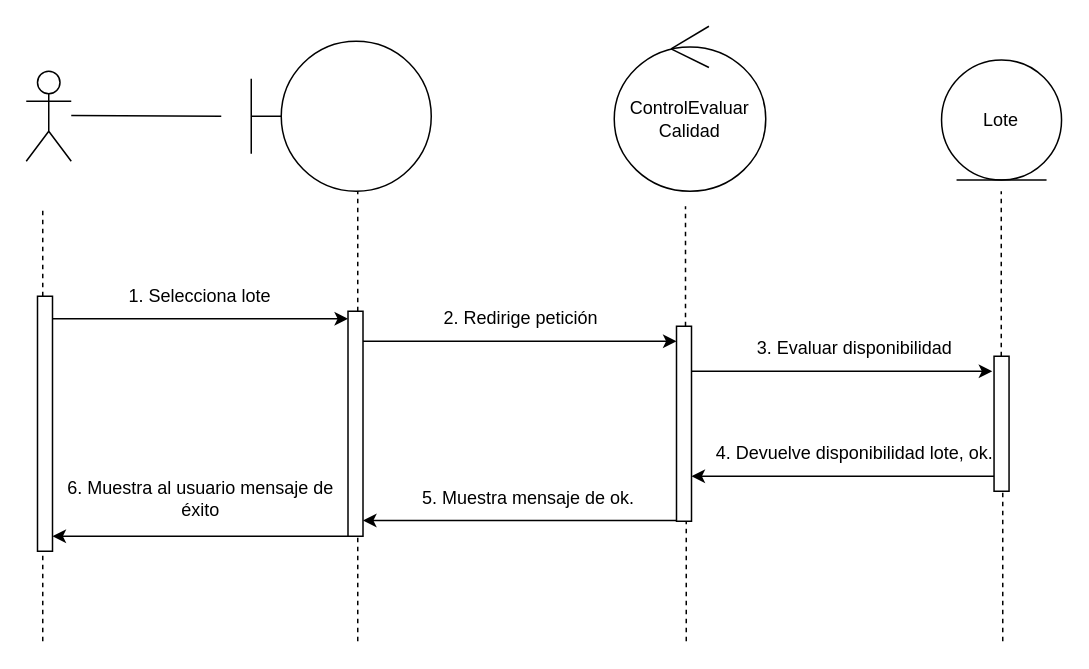
This 1089x669 diagram has some shape labels left out. The shapes that lost their labels are listed below. From the top down, each one's centre as x and y in pixels, then its label:
the point at 48,115: Actor
the point at 340,115: PantallaEvaluar Calidad
